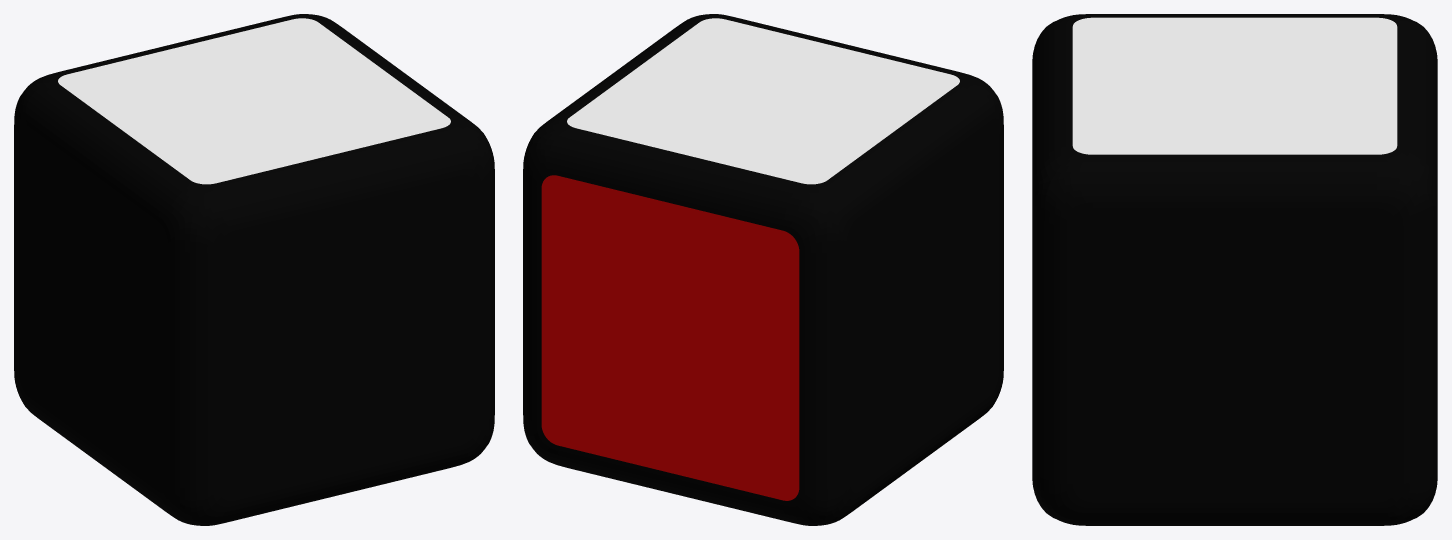
The picture shows the model from 3 angles, left to right: view 1: azimuth 30°, elevation 25°; view 2: azimuth 150°, elevation 25°; view 3: azimuth 270°, elevation 25°; orthographic projection. The views are drawn at different scales.
Visible parts, largest first — view 1: rw; view 2: rw; view 3: rw.
Part boxes in pixels (left/top/right/bottom): rw: left=14, top=14, right=494, bottom=525; rw: left=523, top=14, right=1003, bottom=525; rw: left=1032, top=14, right=1437, bottom=525.
Bounding box in the file's own units: 100 × 100 × 100.
